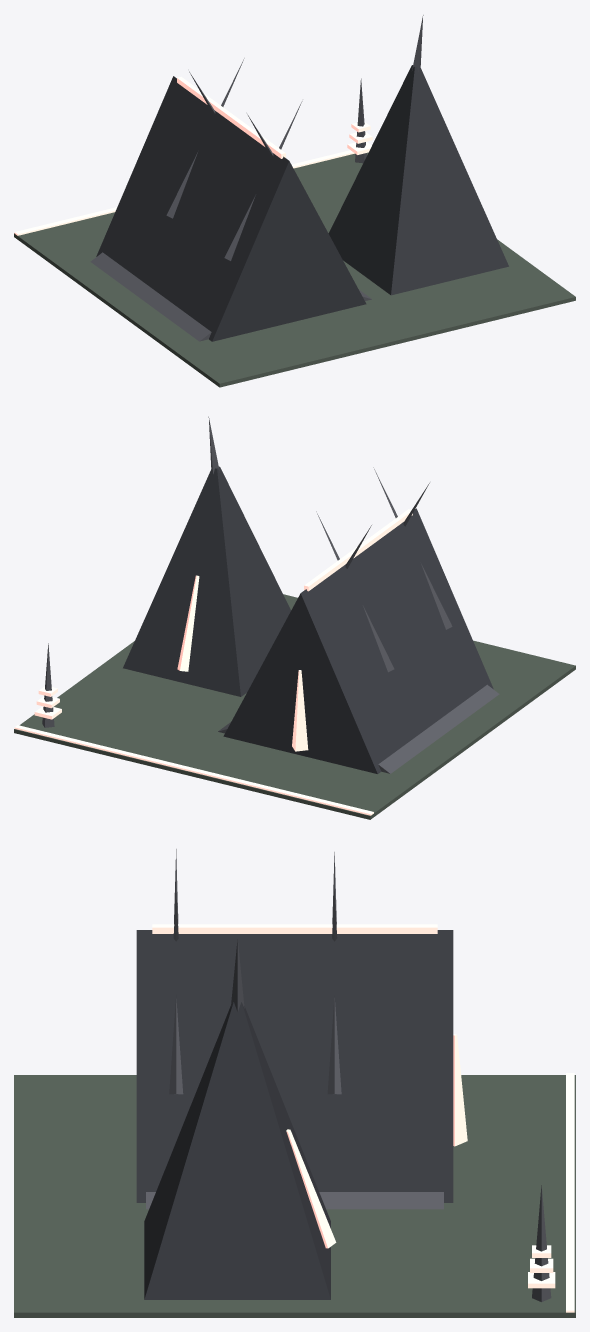
Rendered from zone_low_6_t3.glb.
The picture shows the model from 3 angles, top to bottom: view 1: azimuth 30°, elevation 25°; view 2: azimuth 150°, elevation 25°; view 3: azimuth 270°, elevation 25°; orthographic projection. The views are drawn at different scales.
Visible parts, largest first — view 1: zone_low_6_t3, detail; view 2: zone_low_6_t3, detail; view 3: zone_low_6_t3, detail.
Part boxes in pixels (bbox=[...]): zone_low_6_t3: bbox=[14, 15, 575, 387]; detail: bbox=[14, 78, 372, 235]; zone_low_6_t3: bbox=[14, 416, 575, 819]; detail: bbox=[14, 643, 373, 815]; zone_low_6_t3: bbox=[14, 849, 575, 1317]; detail: bbox=[528, 1073, 574, 1312].
Size of the model in its own units: 19.6 by 12.81 by 19.6.
